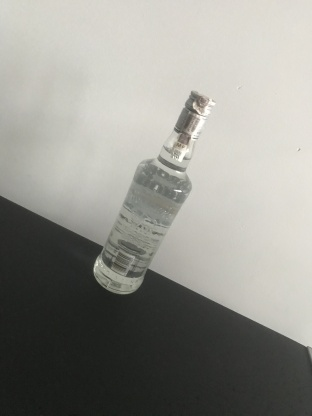nakretka: (172, 89, 216, 143)
